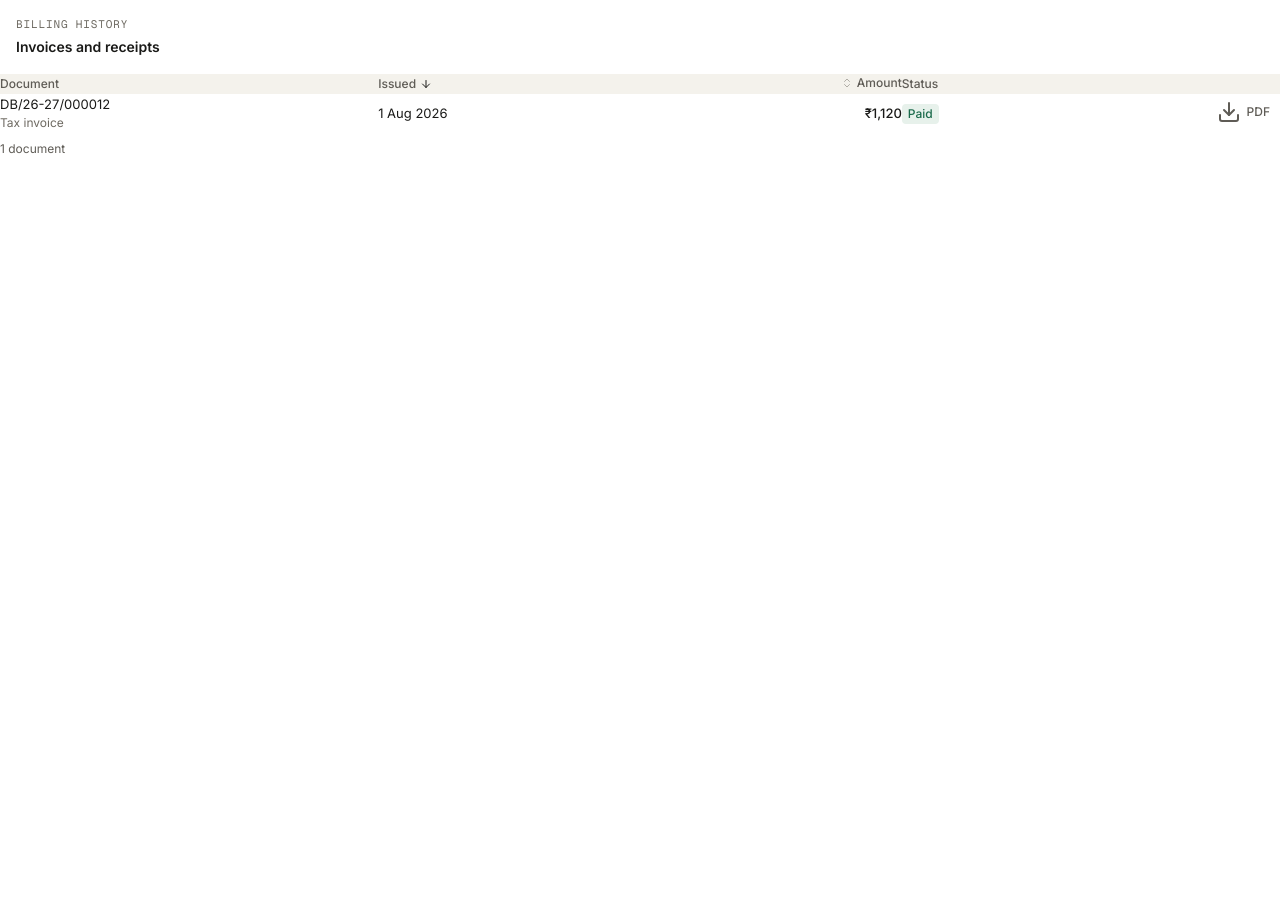
the GST breakdown › itemises an inter-state supply as a single IGST line at the full rate
Click the button "DB/26-27/000012 Tax invoice" at (55, 113), box [0,94,110,132]
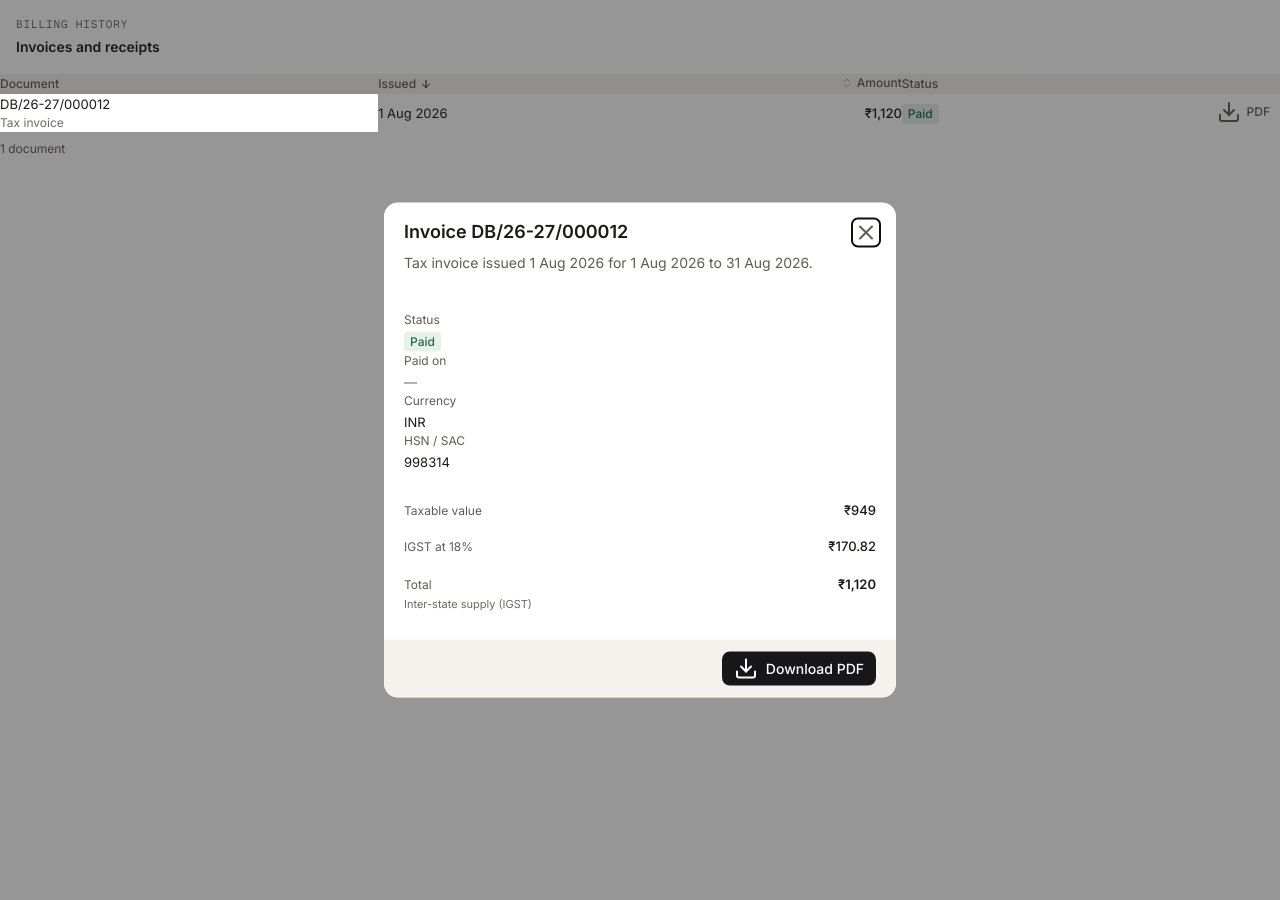
Expected: the text "IGST at 18%" is shown, [404,538,473,556]
